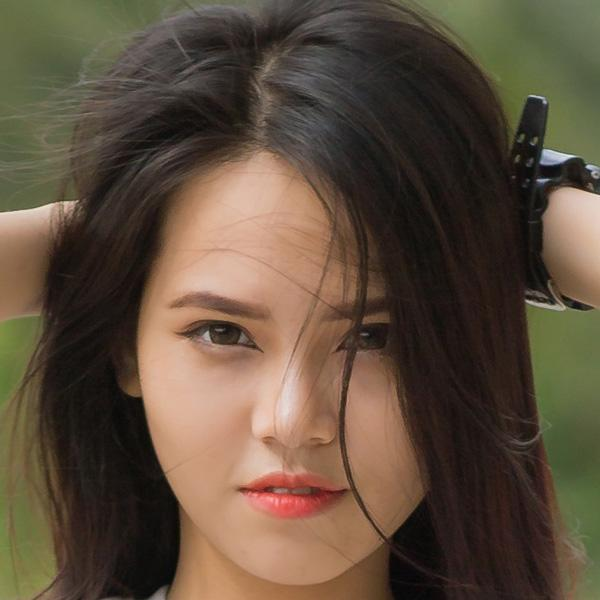Eyes: (171, 307, 270, 367), (324, 316, 418, 366)
